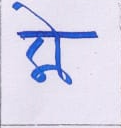e_matra: (14, 1, 62, 31)
